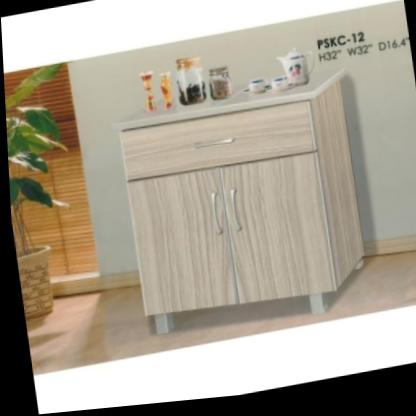Cabinet: (104, 67, 373, 354)
